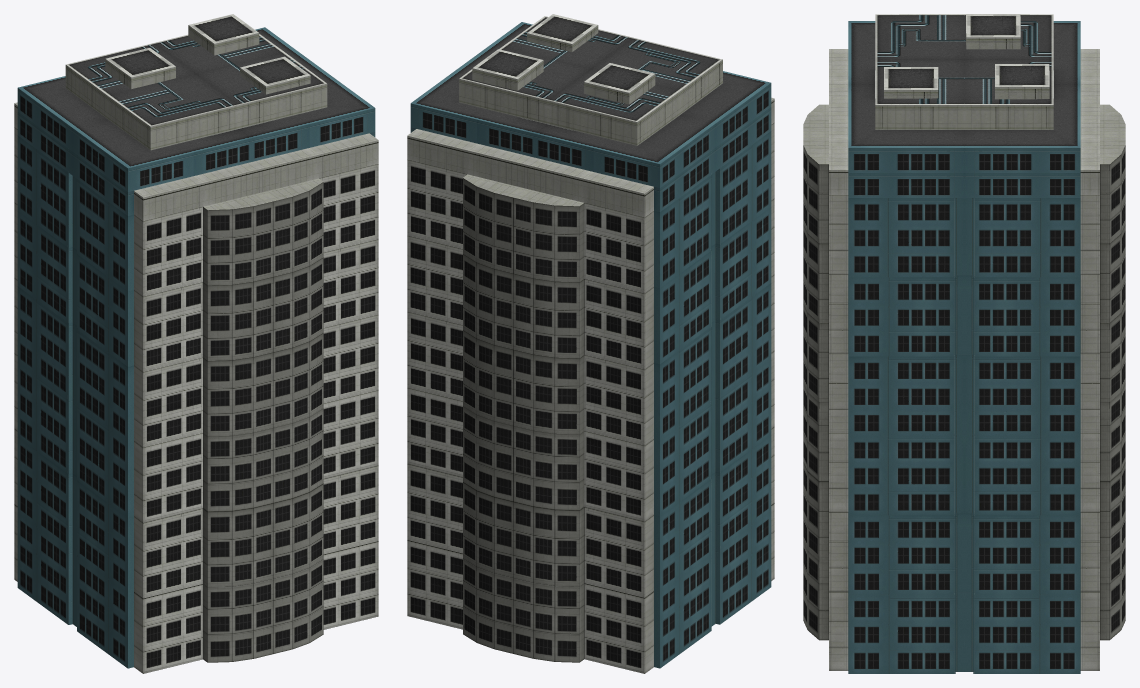
File: build_4.FBX
The picture shows the model from 3 angles, left to right: view 1: azimuth 30°, elevation 25°; view 2: azimuth 150°, elevation 25°; view 3: azimuth 270°, elevation 25°; orthographic projection. The views are drawn at different scales.
Visible parts, largest first — view 1: Archmodels61_46_01; view 2: Archmodels61_46_01; view 3: Archmodels61_46_01.
Part boxes in pixels (x1,y1,x2,y2): Archmodels61_46_01: (14, 14, 378, 673); Archmodels61_46_01: (407, 14, 774, 673); Archmodels61_46_01: (803, 14, 1125, 673).
Size of the model in its own units: 2771 by 5730 by 2974.
2 materials, 1 textured.
